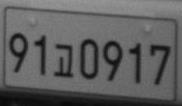0: (78, 38, 99, 79)
1: (126, 42, 148, 83), (32, 34, 52, 75)
7: (149, 43, 172, 85)
9: (102, 39, 123, 81), (8, 31, 29, 72)
고: (53, 44, 74, 78)
